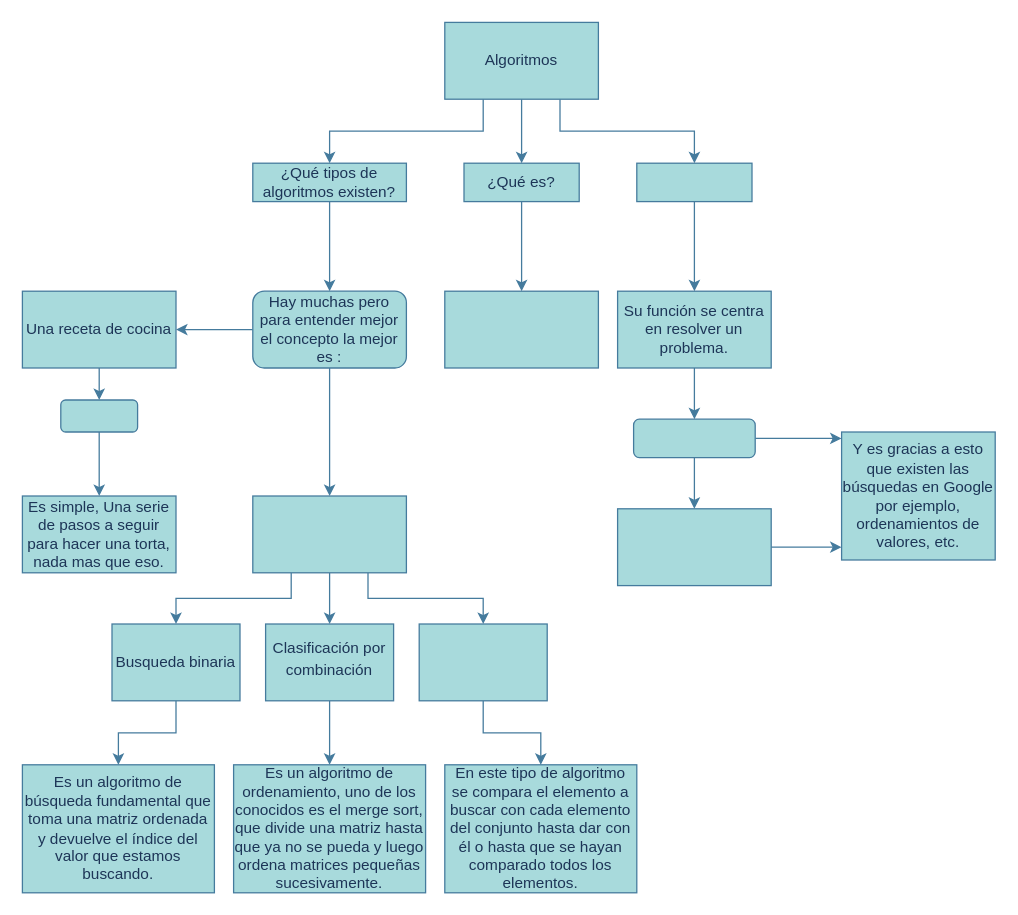
The diagram is 1018 pixels wide and 915 high, and some of its shapes have lost their labels. The centre of each missing label's shape, as x and y in pixels:
"Búsqueda secuencial." belongs at point (482, 662).
"En cuanto a la informática hay 3 muy utilizados." belongs at point (329, 534).
"Es un conjunto de ordenes que establecen un proceso lógico." belongs at point (521, 329).
"Su uso es en todos los ambitos, pero en donde mas suena es en la informatica." belongs at point (693, 547).
"¿Para que sirven?" belongs at point (694, 182).
"¿Por qué se utilizan tanto?" belongs at point (693, 438).
"¿Por qué?" belongs at point (99, 415).
